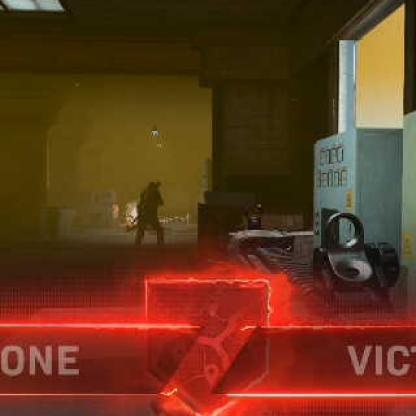enemy: (131, 180, 169, 248)
